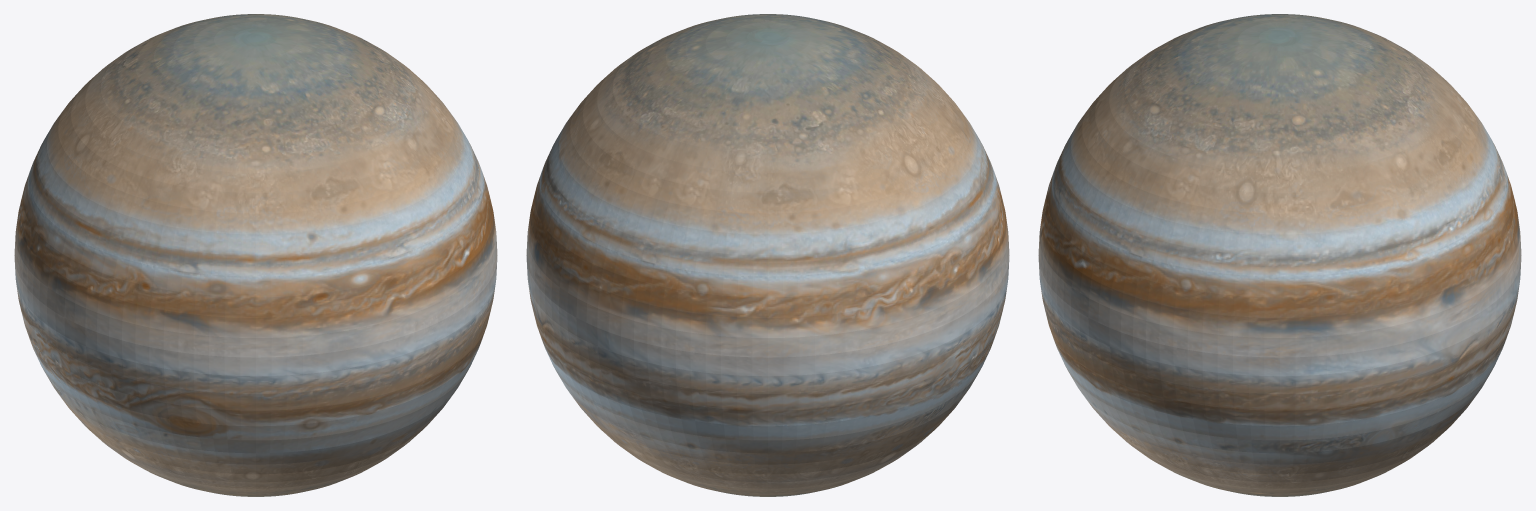
The model's file is jupiter.glb.
3 views of the same model, side by side, from view 1: azimuth 30°, elevation 25°; view 2: azimuth 150°, elevation 25°; view 3: azimuth 270°, elevation 25° (orthographic).
Visible parts, largest first — view 1: Sphere; view 2: Sphere; view 3: Sphere.
Part boxes in pixels (left/top/right/bottom): Sphere: left=14, top=14, right=497, bottom=496; Sphere: left=526, top=14, right=1009, bottom=496; Sphere: left=1038, top=14, right=1521, bottom=496.
Bounding box in the file's own units: 2 × 2 × 2.
1 material, 1 textured.
